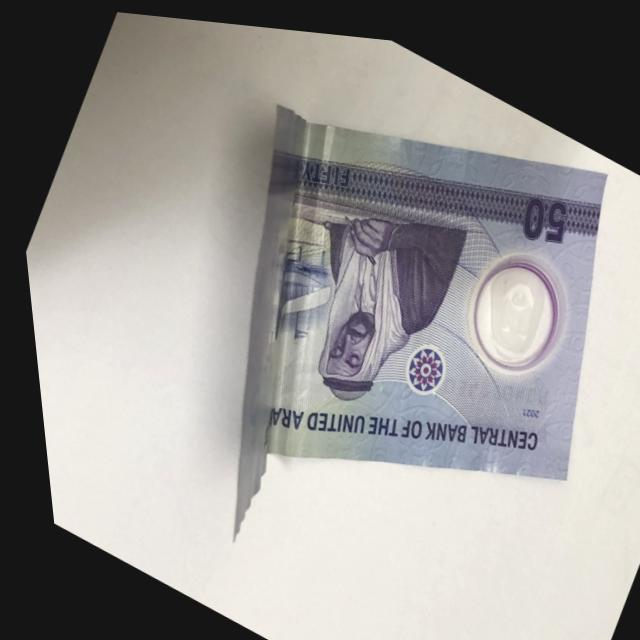50_AED: (234, 96, 608, 554)
